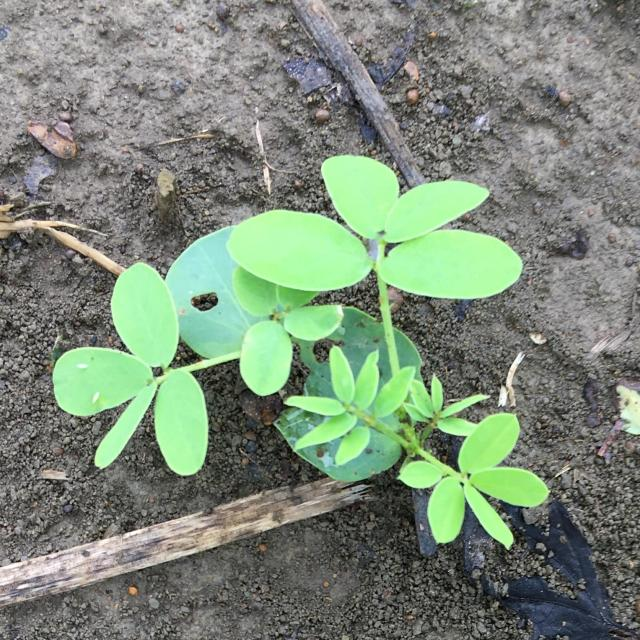Sicklepod: (52, 155, 550, 549)
